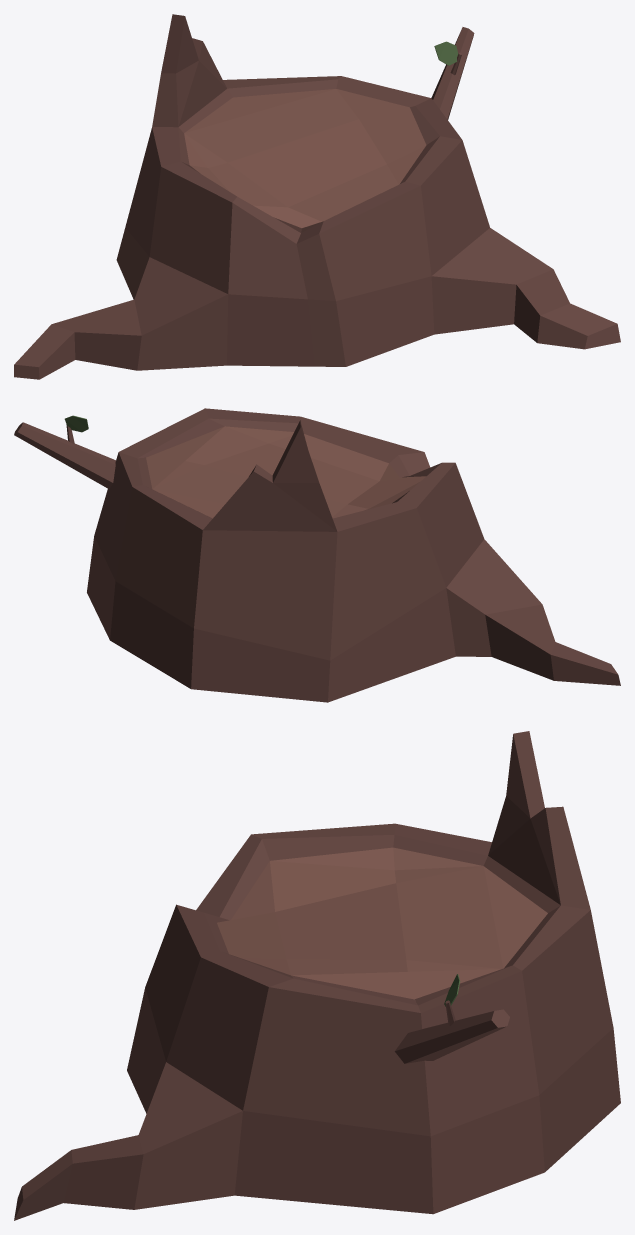
File: TreeStump.gltf
The picture shows the model from 3 angles, top to bottom: view 1: azimuth 30°, elevation 25°; view 2: azimuth 150°, elevation 25°; view 3: azimuth 270°, elevation 25°; orthographic projection. The views are drawn at different scales.
Visible parts, largest first — view 1: TreeStump; view 2: TreeStump; view 3: TreeStump.
Boxes of the visible parts, x1,y1,x2,y2 form: TreeStump: [14, 14, 620, 379]; TreeStump: [14, 408, 620, 702]; TreeStump: [14, 731, 620, 1220].
Bounding box in the file's own units: 1.36 × 0.6216 × 1.03.
